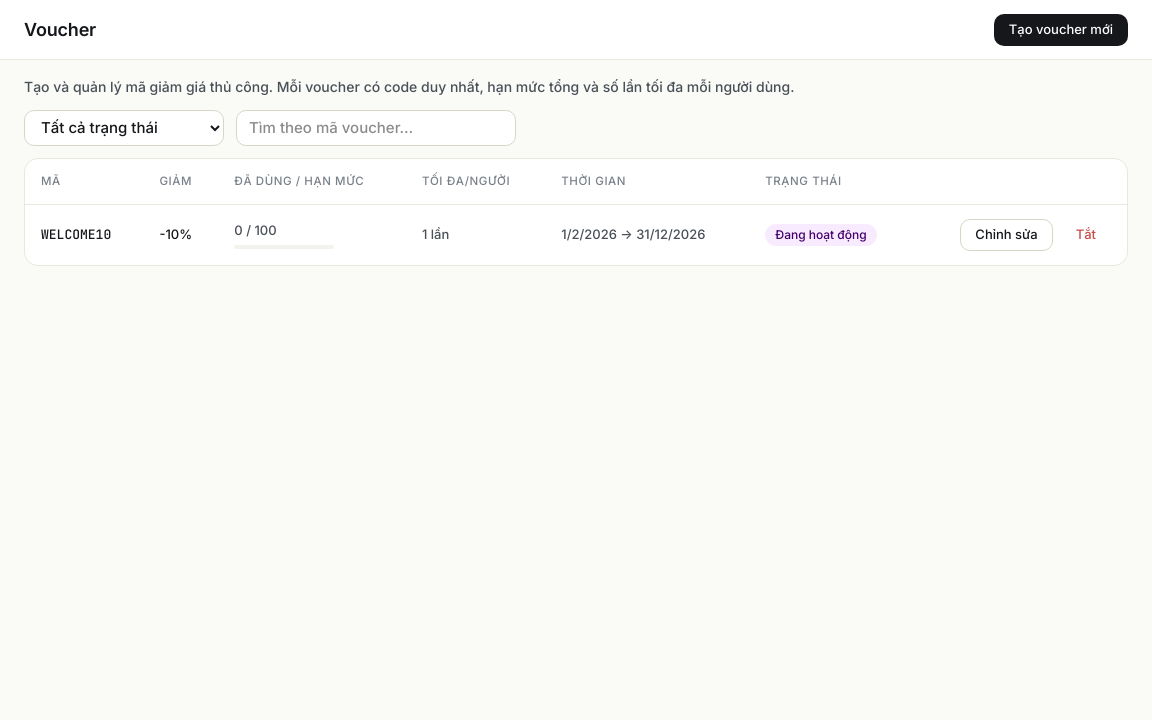
AdminVouchersPage › opens the create modal when Create is clicked
The image size is (1152, 720).
Click the button with test id "admin-vouchers-create-btn" at [1061, 30], box [994, 14, 1128, 46]
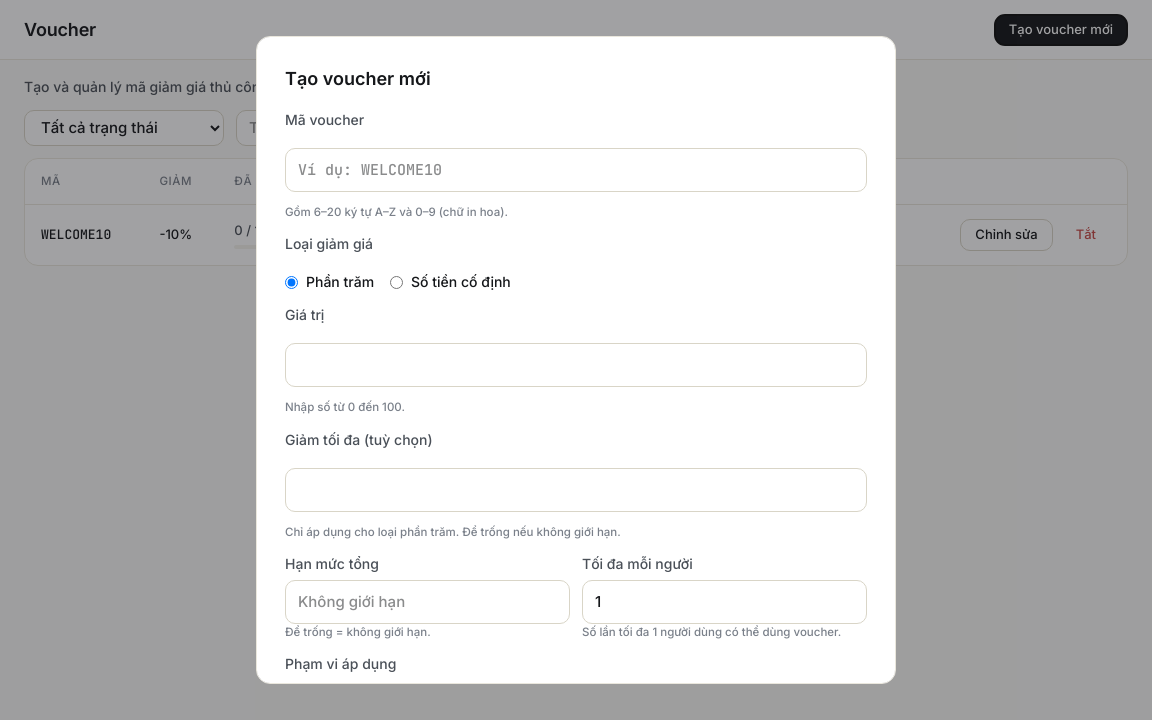
Result: the dialog with test id "admin-vouchers-form-dialog" is shown
